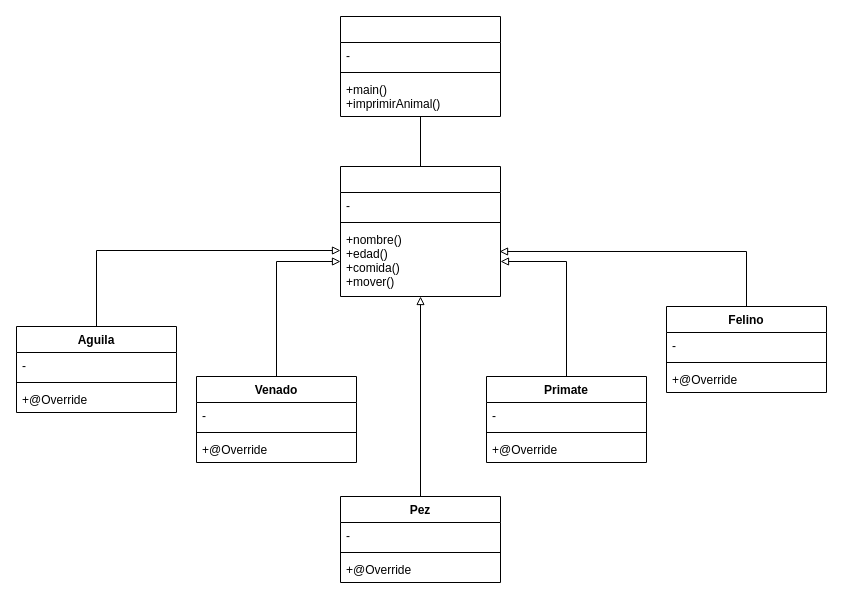
This 843x599 diagram has some shape labels left out. The shapes that lost their labels are listed below. From the top down, each one's box as (x1, y1, x2, y2) in pixels, then its label:
(340, 16, 500, 116): App
(340, 166, 500, 296): Animal
